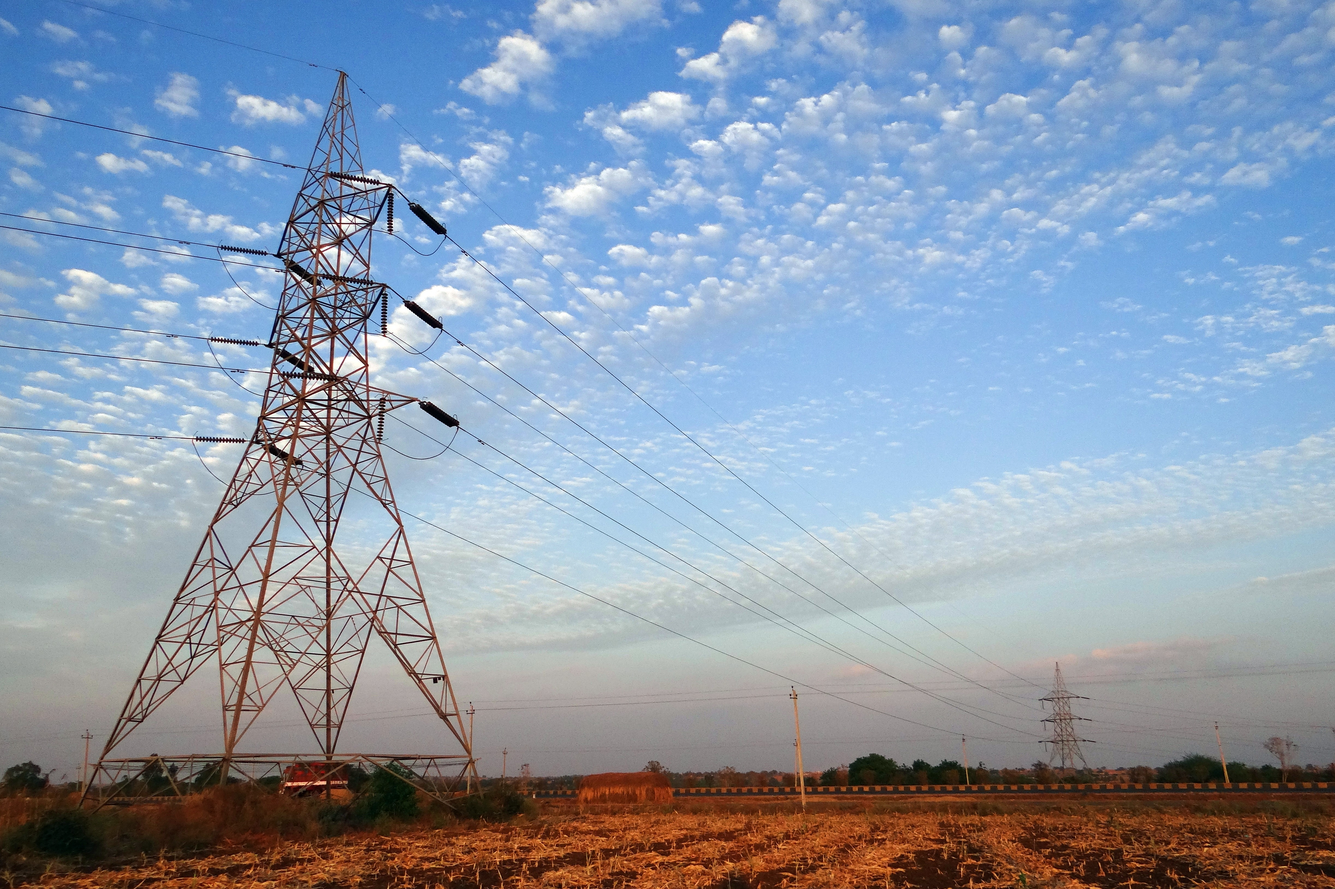insulator: (418, 396, 469, 432), (324, 165, 391, 191), (402, 299, 448, 336), (408, 202, 451, 240), (276, 367, 349, 387), (207, 332, 265, 353), (216, 241, 273, 261), (195, 429, 252, 448), (380, 287, 390, 340)
